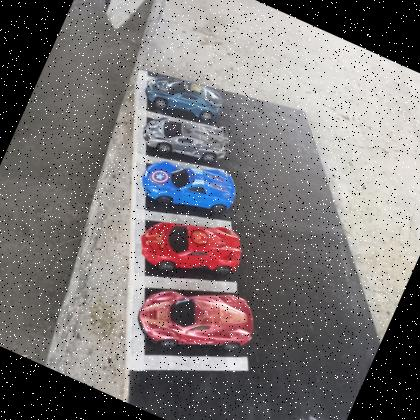Car: (128, 263, 266, 380), (134, 198, 252, 296), (135, 140, 242, 227), (139, 98, 238, 176), (140, 63, 228, 129)
